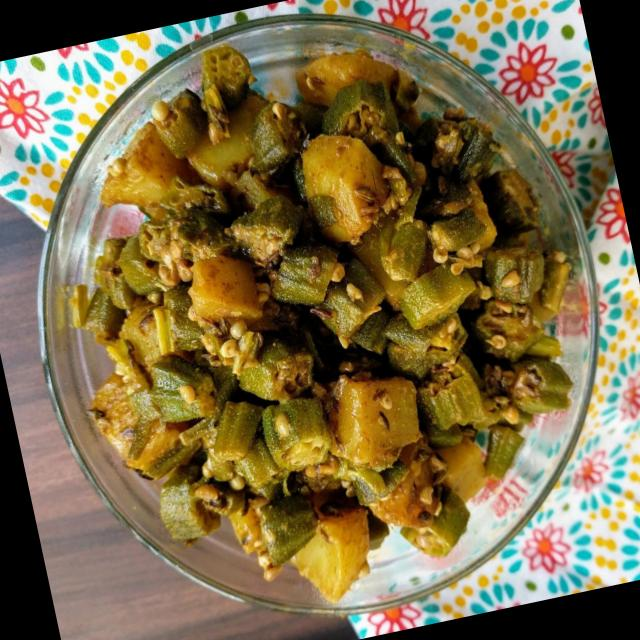BhindiMasala: (19, 0, 624, 640)
